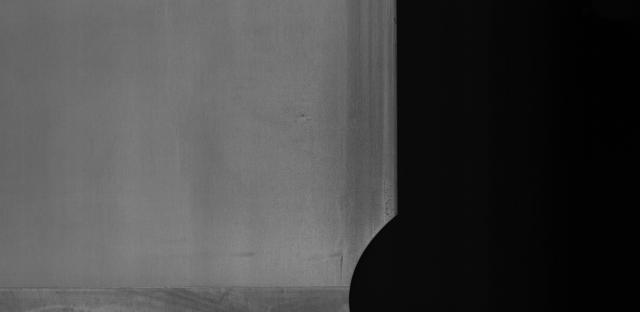crescent_gap: (337, 199, 411, 310)
welding_line: (0, 276, 351, 294)
